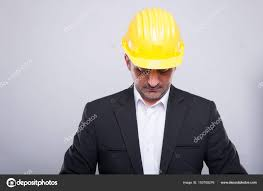Person_wearing_helmet: (119, 9, 186, 77)
